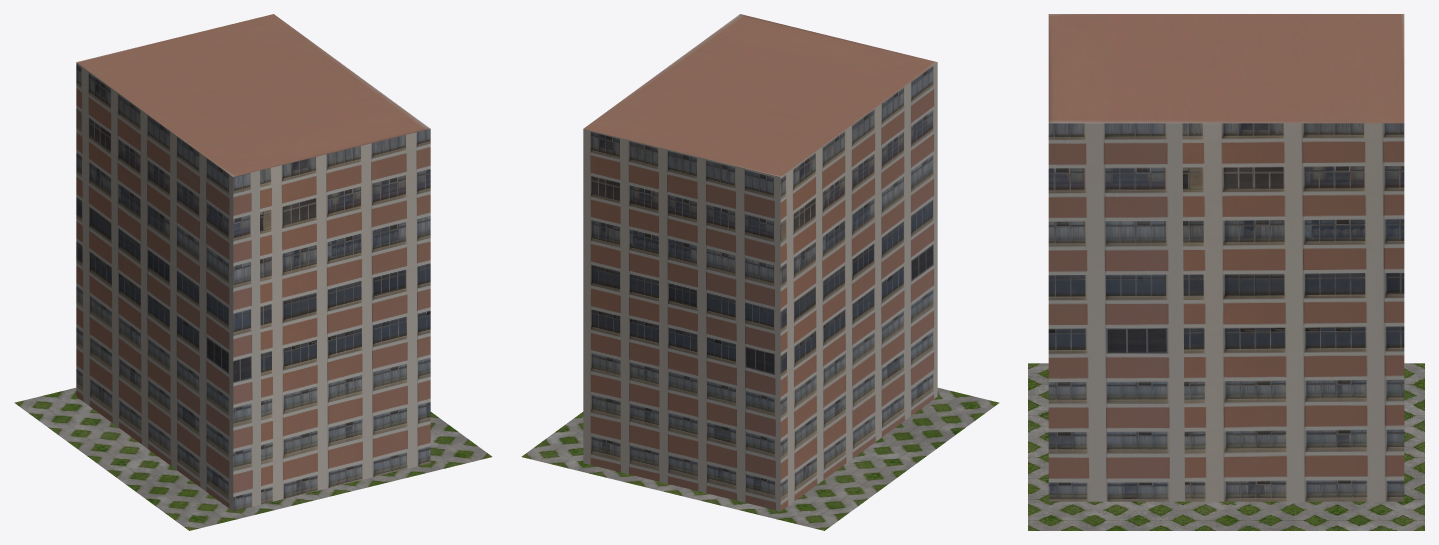
The model's file is buildingOF 2.fbx.
3 renders of one model, left to right at view 1: azimuth 30°, elevation 25°; view 2: azimuth 150°, elevation 25°; view 3: azimuth 270°, elevation 25°, orthographic. The views are drawn at different scales.
Parts seen in each view (by area): view 1: building; view 2: building; view 3: building.
Boxes of the visible parts, x1,y1,x2,y2 form: building: (14,14,492,530); building: (521,14,999,530); building: (1028,14,1424,530).
Size of the model in its own units: 99.49 by 106 by 99.49.
